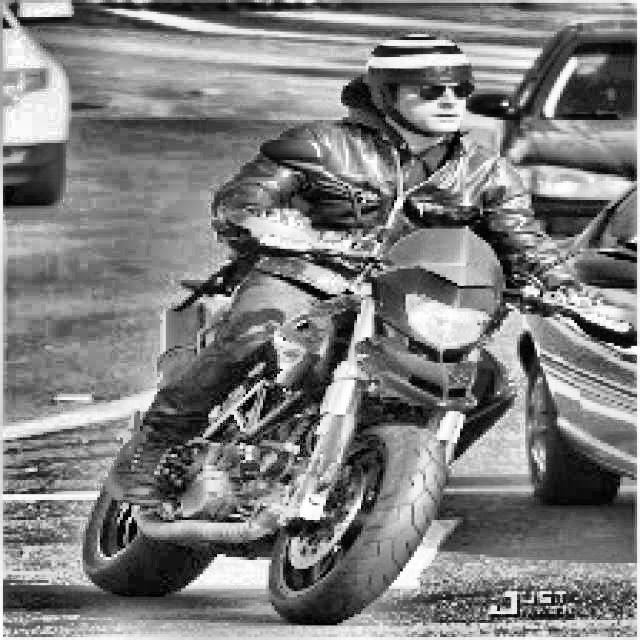motorcycle: (72, 176, 611, 640)
